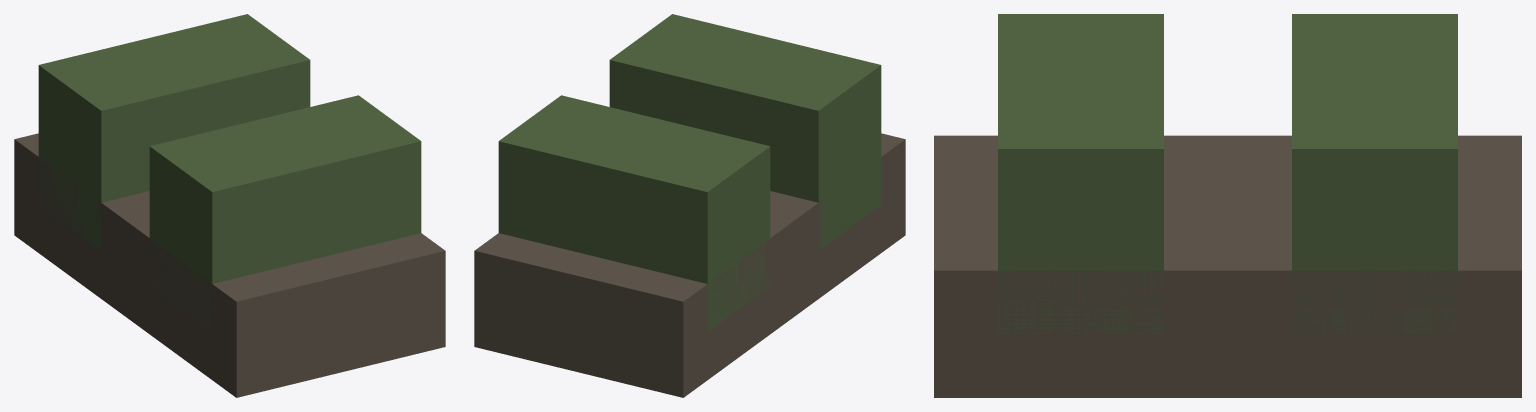
Rendered from farm_crop_cell_medium_lvl1.glb.
3 views of the same model, side by side, from view 1: azimuth 30°, elevation 25°; view 2: azimuth 150°, elevation 25°; view 3: azimuth 270°, elevation 25° (orthographic). The views are drawn at different scales.
Parts seen in each view (by area): view 1: farm_crop_cell_medium; view 2: farm_crop_cell_medium; view 3: farm_crop_cell_medium.
Part boxes in pixels (left/top/right/bottom): farm_crop_cell_medium: left=14, top=14, right=445, bottom=397; farm_crop_cell_medium: left=474, top=14, right=905, bottom=397; farm_crop_cell_medium: left=934, top=14, right=1521, bottom=397.
Size of the model in its own units: 0.0442 by 0.038 by 0.0814.
